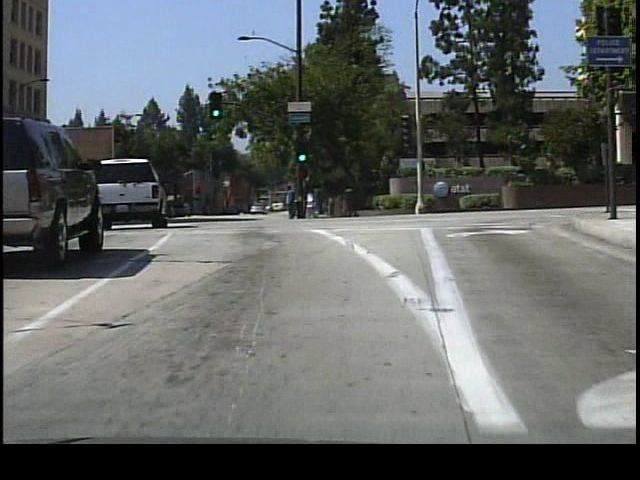person: (280, 177, 299, 222), (302, 185, 322, 222)
